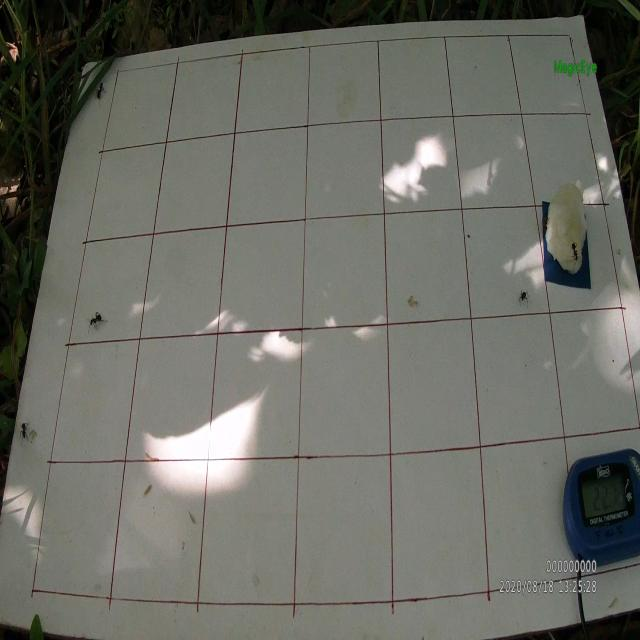Ant: (87, 311, 108, 334), (566, 239, 580, 265), (94, 80, 108, 105), (19, 420, 30, 446), (518, 289, 528, 308)
